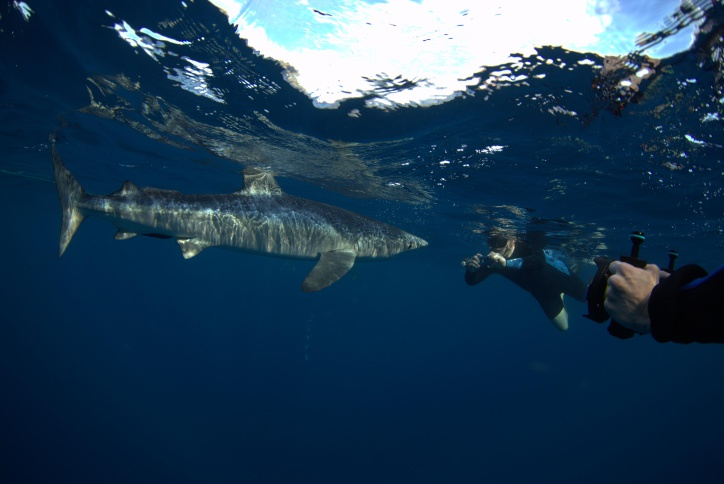Azul: (40, 184, 419, 315)
